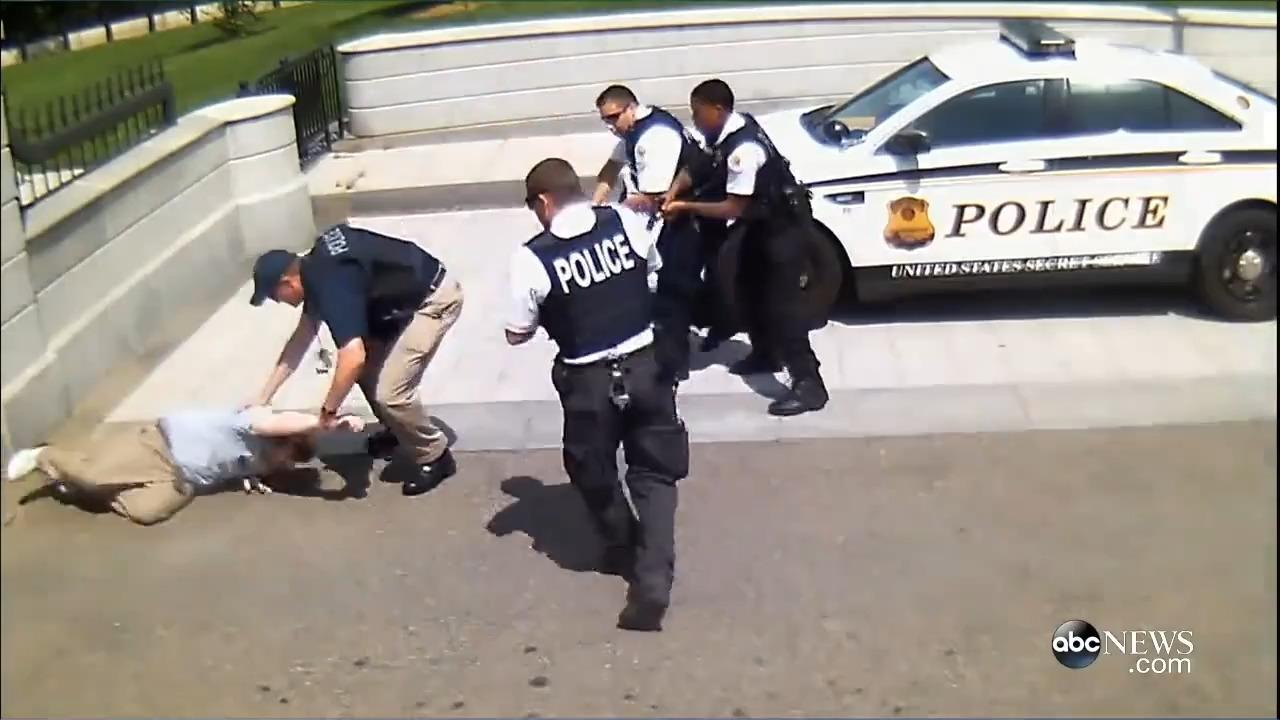non-violence: (502, 159, 691, 639), (659, 84, 826, 415), (586, 82, 715, 394)
violence: (3, 227, 466, 525)
weapon: (648, 190, 671, 232)
